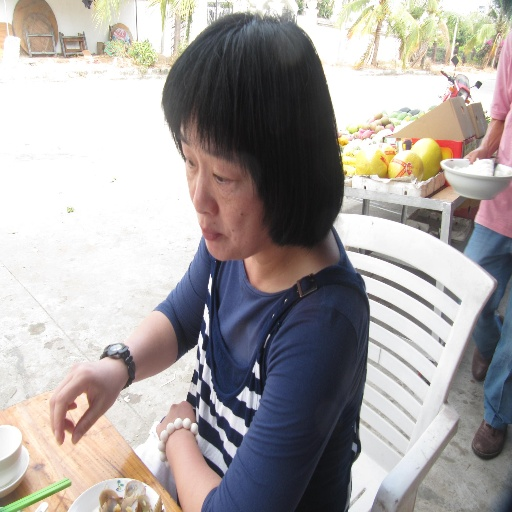hand: (49, 348, 132, 450), (153, 397, 196, 450), (461, 145, 491, 165)
